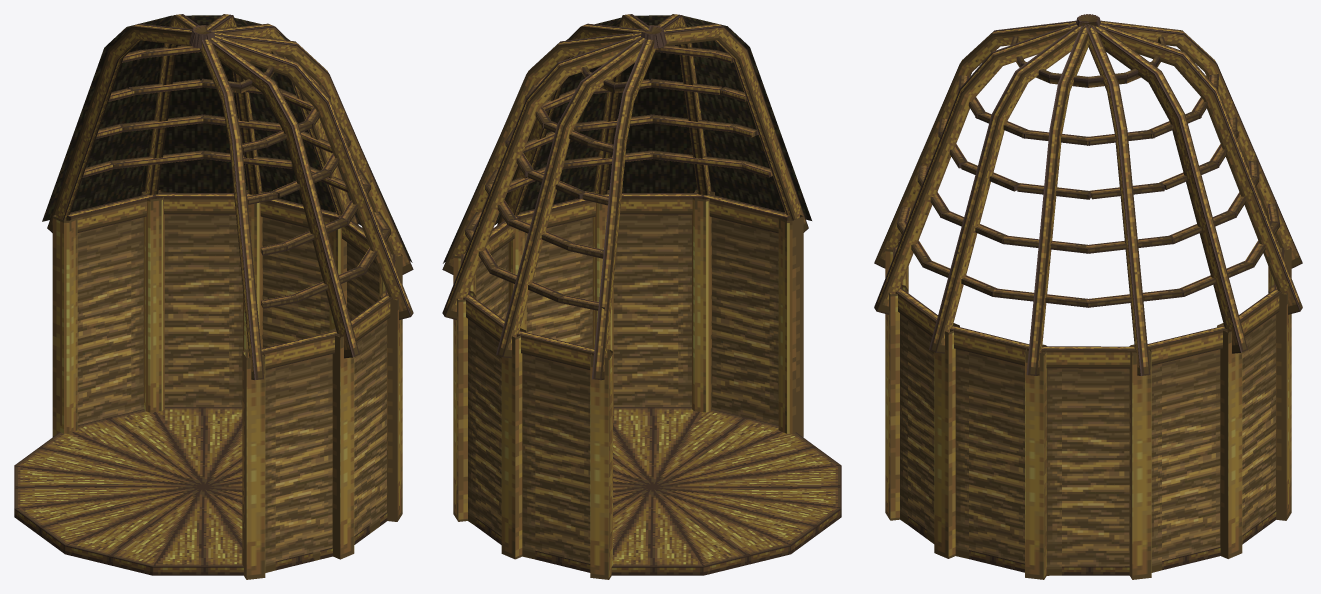
The model's file is EnvBdgMD_Island_A_Indoor_House_C.FBX.
The picture shows the model from 3 angles, left to right: view 1: azimuth 30°, elevation 25°; view 2: azimuth 150°, elevation 25°; view 3: azimuth 270°, elevation 25°; orthographic projection. The views are drawn at different scales.
Parts seen in each view (by area): view 1: EnvBdgMD_Island_A_Indoor_House_C; view 2: EnvBdgMD_Island_A_Indoor_House_C; view 3: EnvBdgMD_Island_A_Indoor_House_C.
Part boxes in pixels (bbox=[...]): EnvBdgMD_Island_A_Indoor_House_C: bbox=[14, 14, 413, 579]; EnvBdgMD_Island_A_Indoor_House_C: bbox=[442, 14, 841, 579]; EnvBdgMD_Island_A_Indoor_House_C: bbox=[874, 14, 1302, 579].
Bounding box in the file's own units: 816 × 1050 × 874.
Materials: 1 (1 with a texture image).
